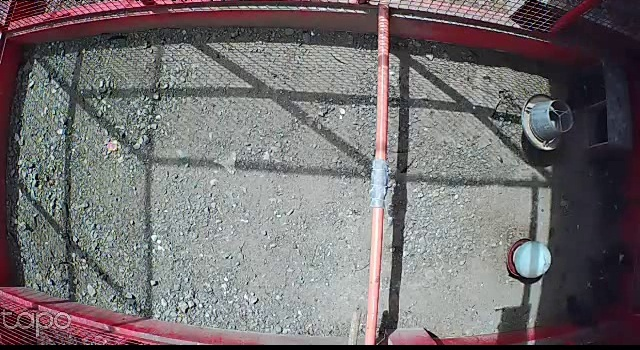Drinker: (507, 236, 553, 280)
Feeder: (521, 90, 574, 152)
